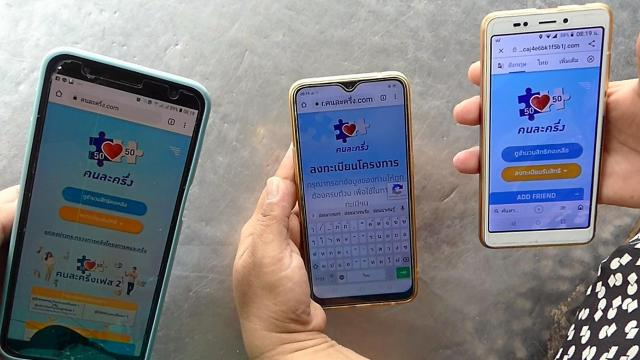phone: (1, 45, 218, 360), (474, 1, 615, 251), (285, 68, 421, 313)
